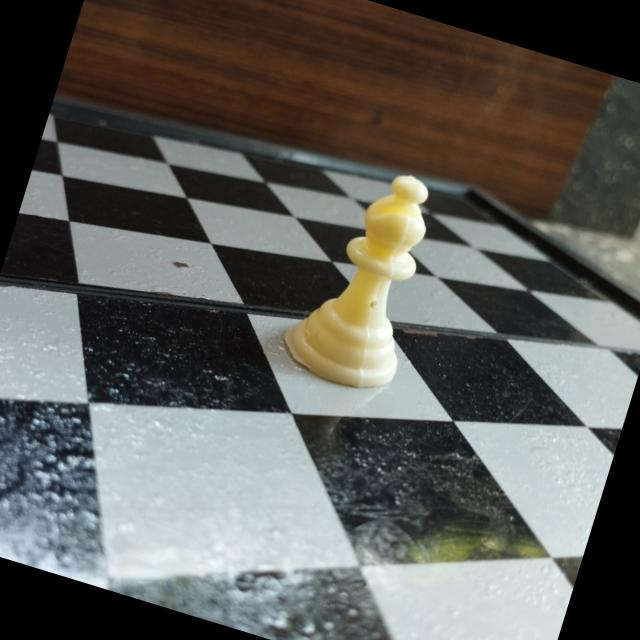White Bishop: (272, 143, 466, 409)
